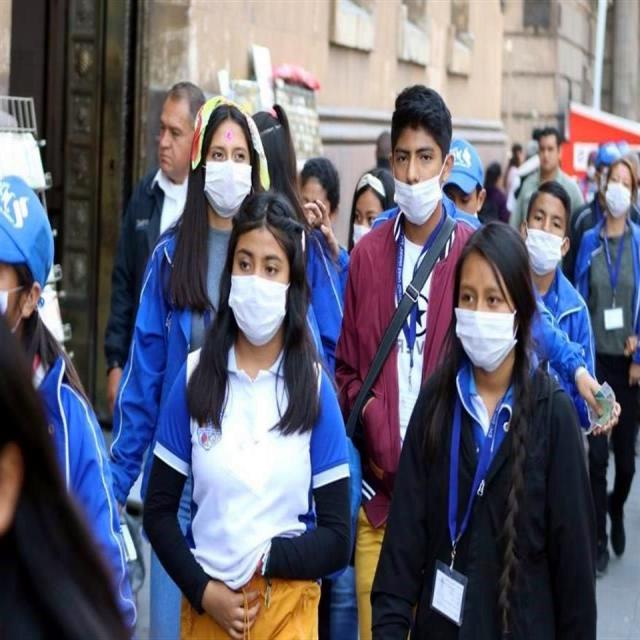adult: (142, 191, 349, 640), (373, 221, 592, 640), (111, 91, 266, 638), (333, 81, 484, 640), (575, 161, 638, 575), (512, 182, 588, 422), (511, 127, 584, 233)
